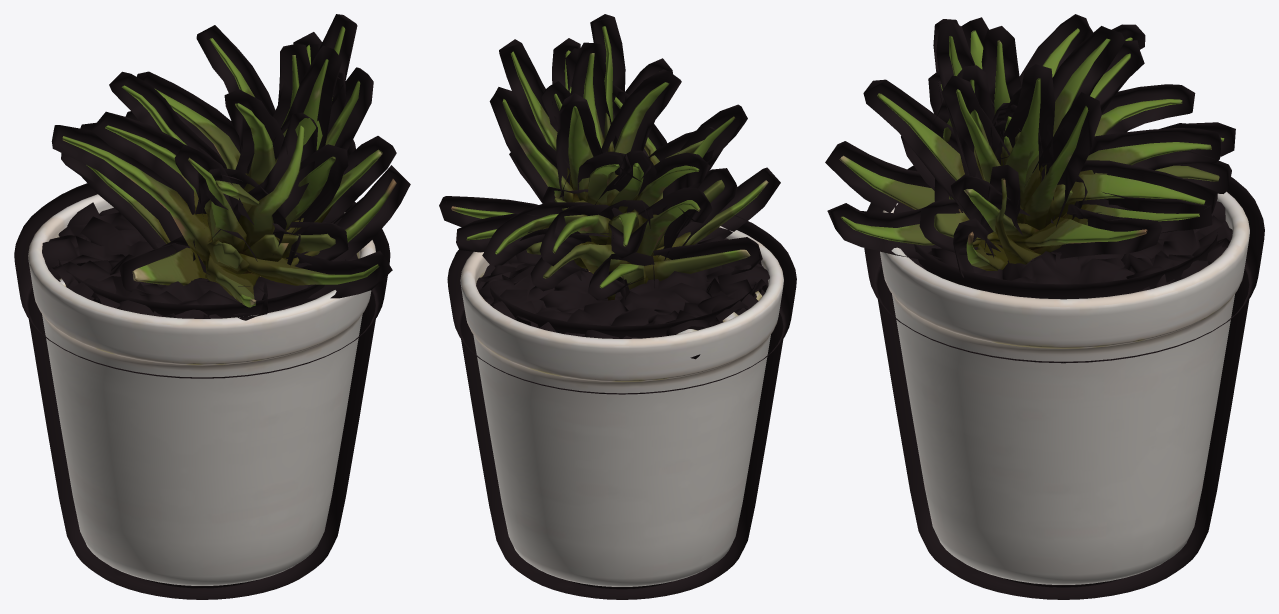
The model's file is SM_Int_PottedPlant.fbx.
The picture shows the model from 3 angles, left to right: view 1: azimuth 30°, elevation 25°; view 2: azimuth 150°, elevation 25°; view 3: azimuth 270°, elevation 25°; orthographic projection. The views are drawn at different scales.
Parts seen in each view (by area): view 1: SM_Int_PottedPlant; view 2: SM_Int_PottedPlant; view 3: SM_Int_PottedPlant.
Part boxes in pixels (box(x1,y1,x2,y2)): SM_Int_PottedPlant: box(14, 14, 410, 599); SM_Int_PottedPlant: box(439, 14, 796, 599); SM_Int_PottedPlant: box(825, 14, 1264, 599).
Size of what is drawn, in the model's own units: 0.1812 by 0.2801 by 0.198.
